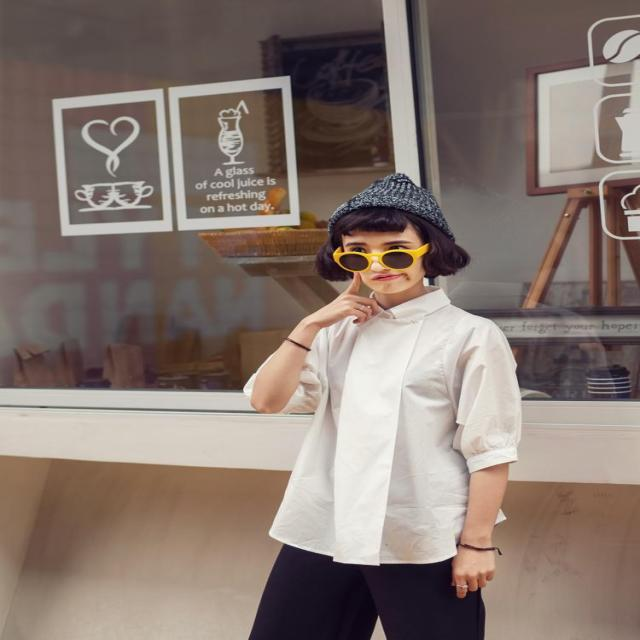short sleeve top: (248, 291, 526, 567)
trousers: (253, 487, 487, 639)
